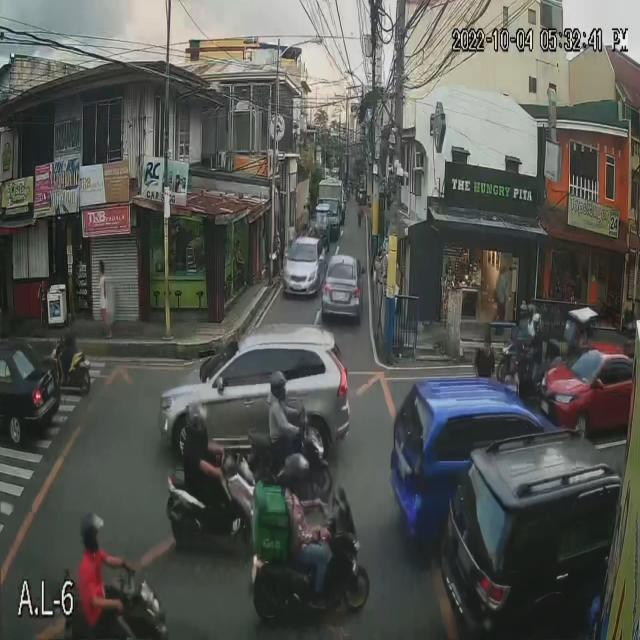Full-Faced: (278, 450, 309, 490), (268, 366, 295, 407), (528, 310, 543, 333)
Half-Faced: (182, 394, 210, 440), (80, 512, 106, 549)
